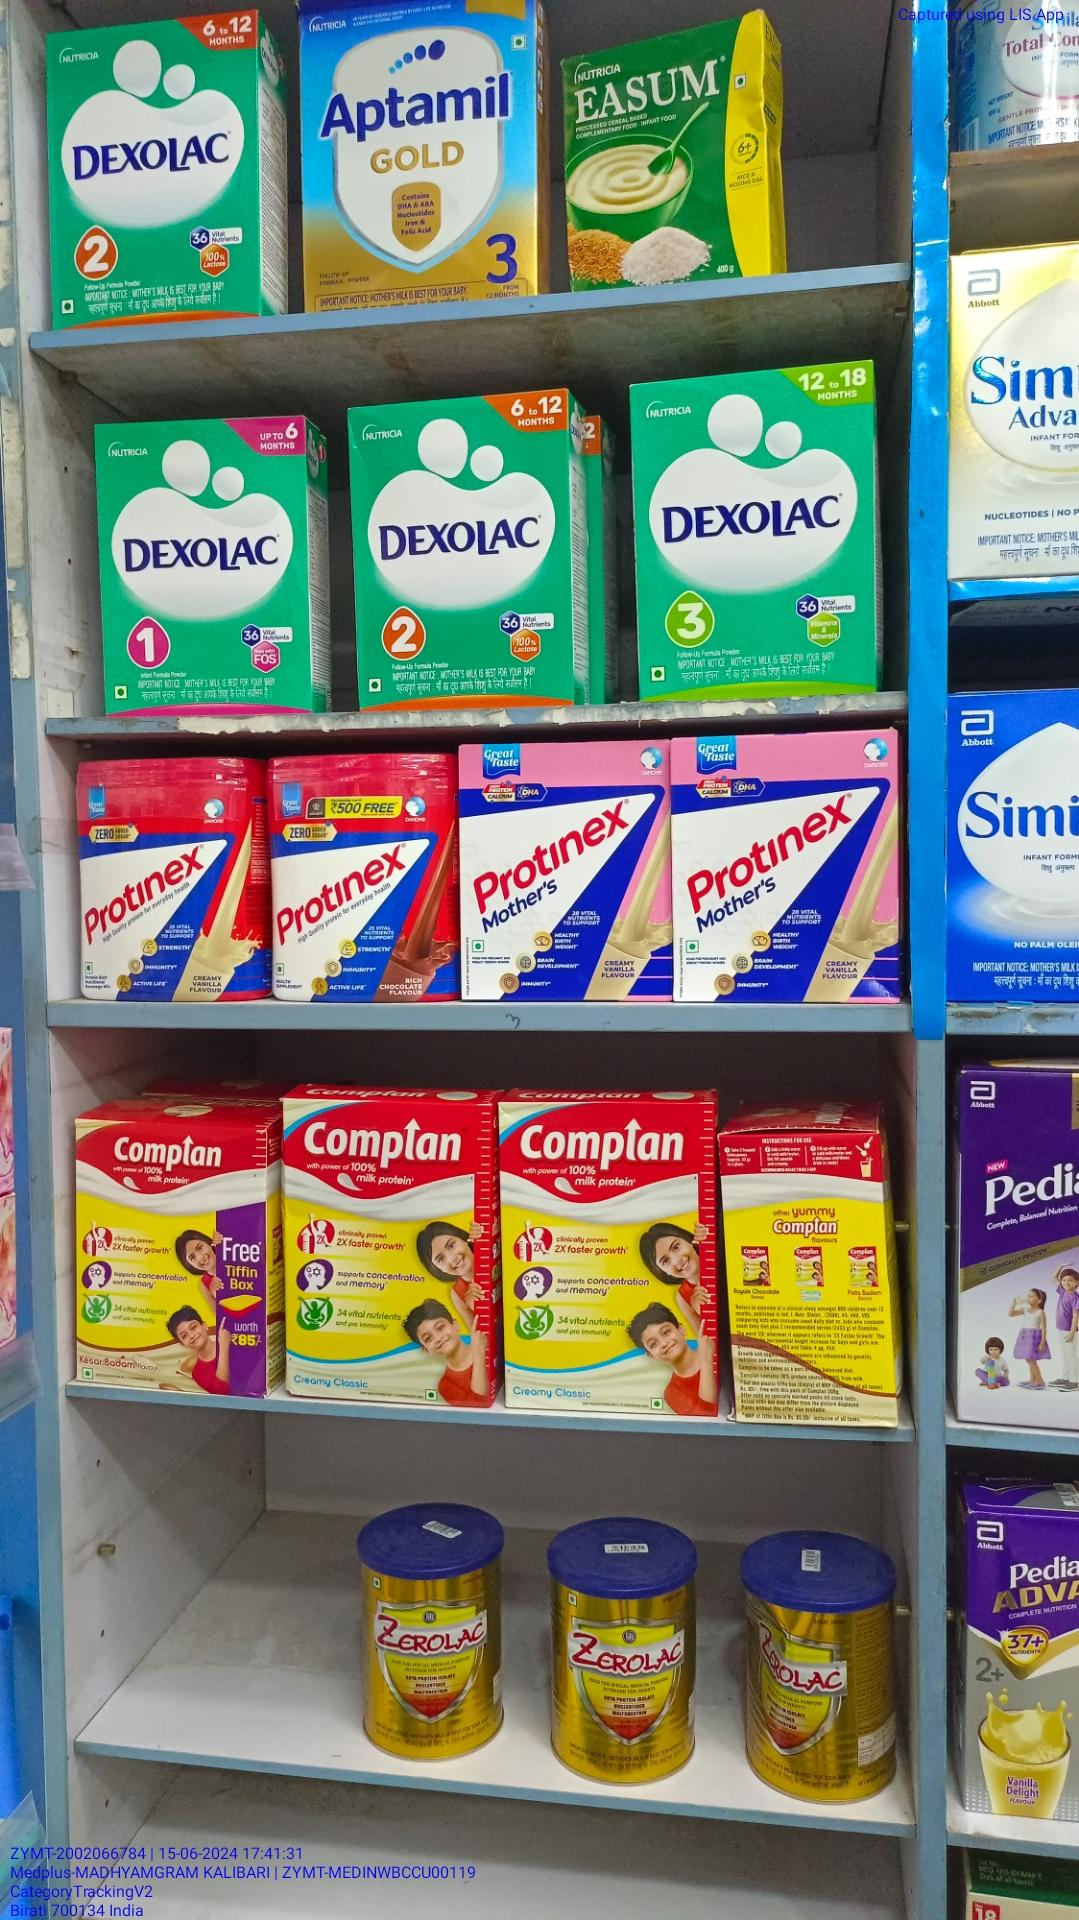COMPLAN_CREAMY_CLASSIC_500_G_PACK: (500, 1101, 719, 1416), (281, 1100, 489, 1402)
COMPLAN_KESAR_BADAM_200_GMS_PACK: (74, 1121, 265, 1399)
PROTINEX_CHOCOLATE_400_G_JAR: (273, 754, 455, 998)
PROTINEX_VANILLA_400_G_JAR: (73, 761, 268, 997)
